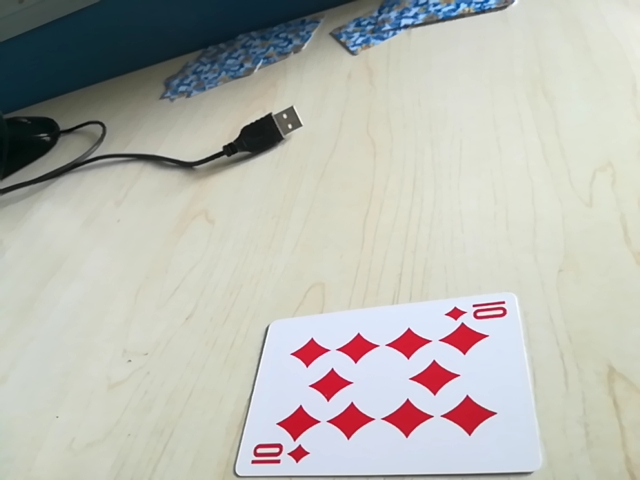fk 10: (444, 295, 514, 328), (247, 441, 310, 470)
